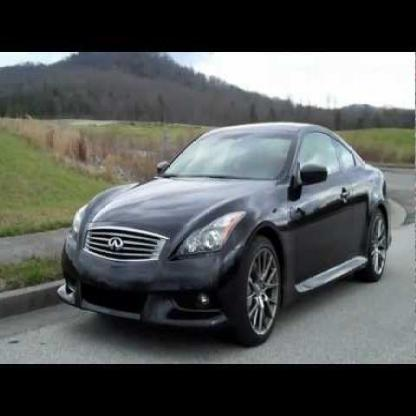Vehicle: (54, 122, 393, 346)
